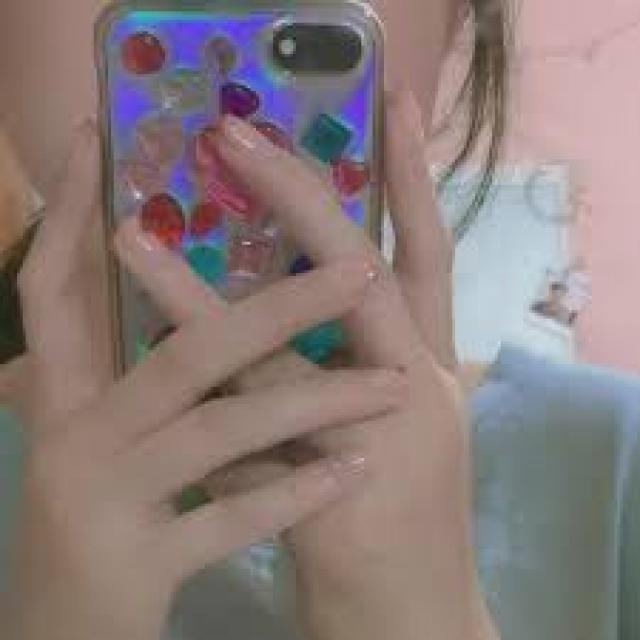Phone: (97, 6, 390, 434)
